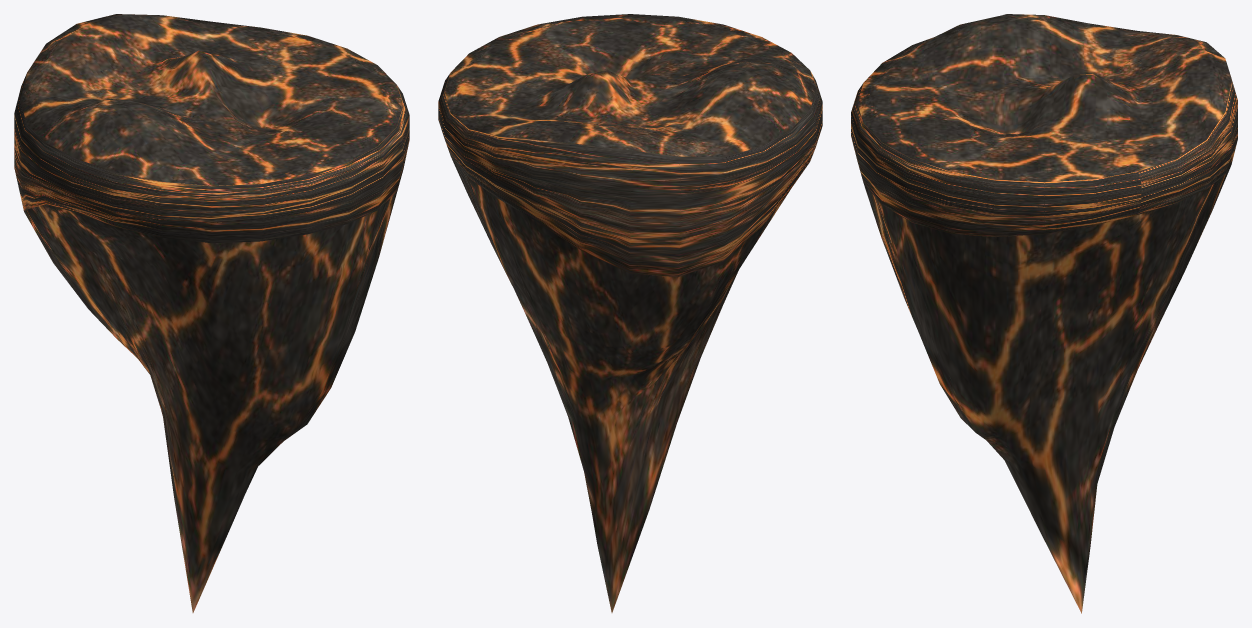
The model's file is Volcano Platform.fbx.
The picture shows the model from 3 angles, left to right: view 1: azimuth 30°, elevation 25°; view 2: azimuth 150°, elevation 25°; view 3: azimuth 270°, elevation 25°; orthographic projection. The views are drawn at different scales.
Visible parts, largest first — view 1: Volcano_Platform; view 2: Volcano_Platform; view 3: Volcano_Platform.
Part boxes in pixels (x1=…): Volcano_Platform: x1=14, y1=14, x2=409, y2=612; Volcano_Platform: x1=438, y1=14, x2=822, y2=612; Volcano_Platform: x1=851, y1=14, x2=1237, y2=613.
Bounding box in the file's own units: 9.24 × 14.35 × 9.24.
Materials: 1 (1 with a texture image).
